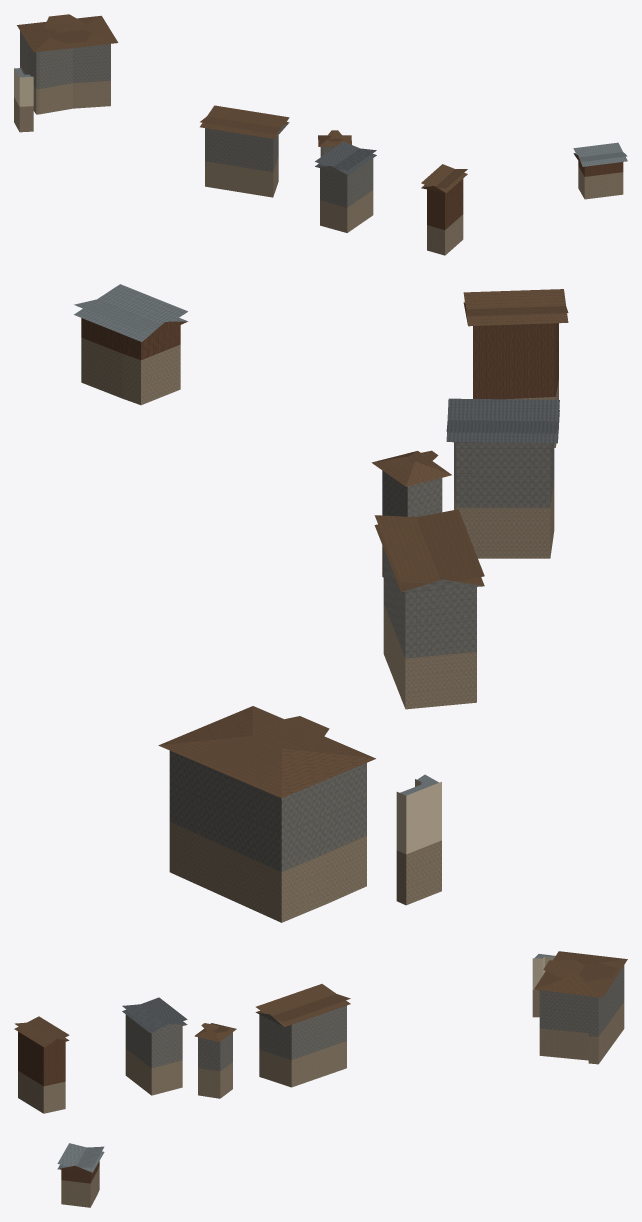
The model's file is bld_c33_46_239.gltf.
3 views of the same model, one above another, from view 1: azimuth 30°, elevation 25°; view 2: azimuth 150°, elevation 25°; view 3: azimuth 270°, elevation 25° (orthographic). The views are drawn at different scales.
Parts seen in each view (by area): view 1: bld_c33_46_239; view 2: bld_c33_46_239; view 3: bld_c33_46_239.
Part boxes in pixels (<box>): bld_c33_46_239: <box>14,14,627,255</box>; bld_c33_46_239: <box>74,284,568,922</box>; bld_c33_46_239: <box>14,951,627,1207</box>.
Size of the model in its own units: 82.03 by 15.7 by 104.
10 materials, 10 textured.
